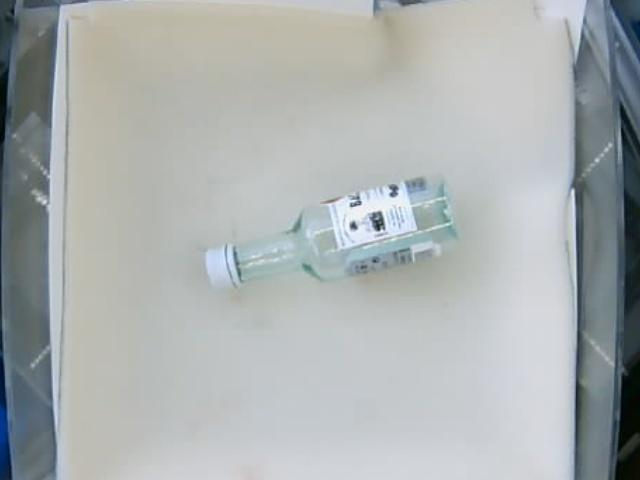Bottle: (202, 175, 460, 296)
